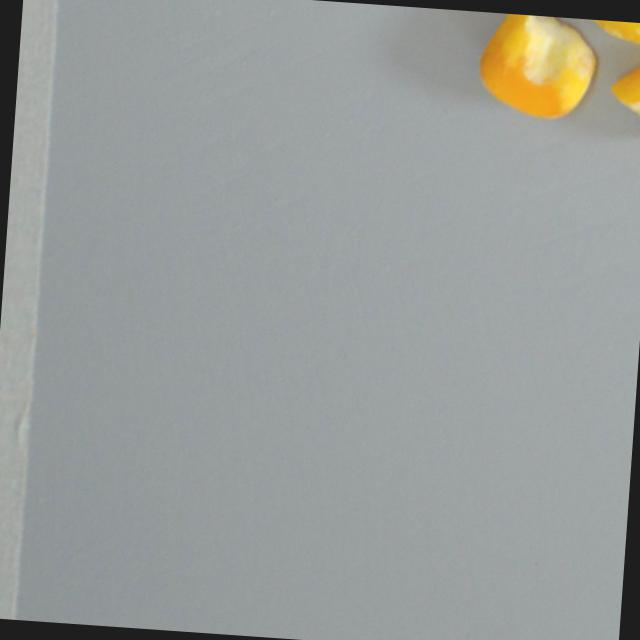no_canjicado: (474, 10, 598, 122), (603, 45, 640, 151)
pelicula: (575, 17, 640, 47)
